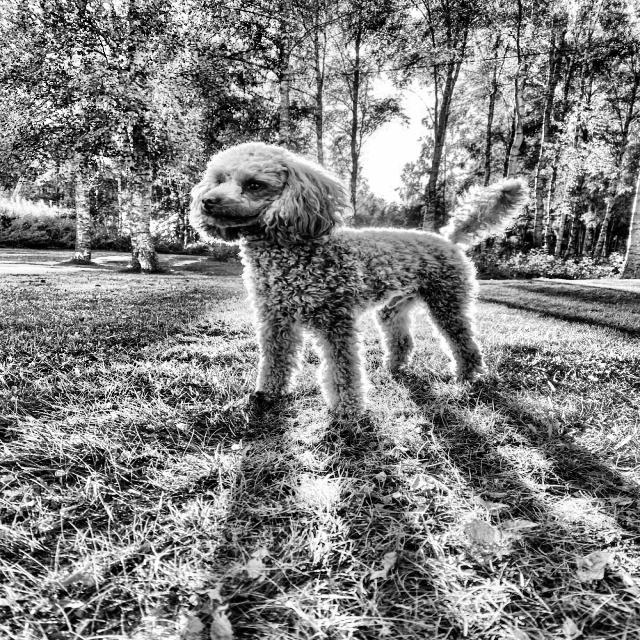poodle: (152, 113, 362, 273)
